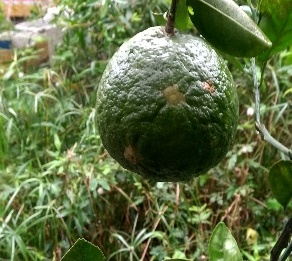Cam: (93, 23, 243, 183)
